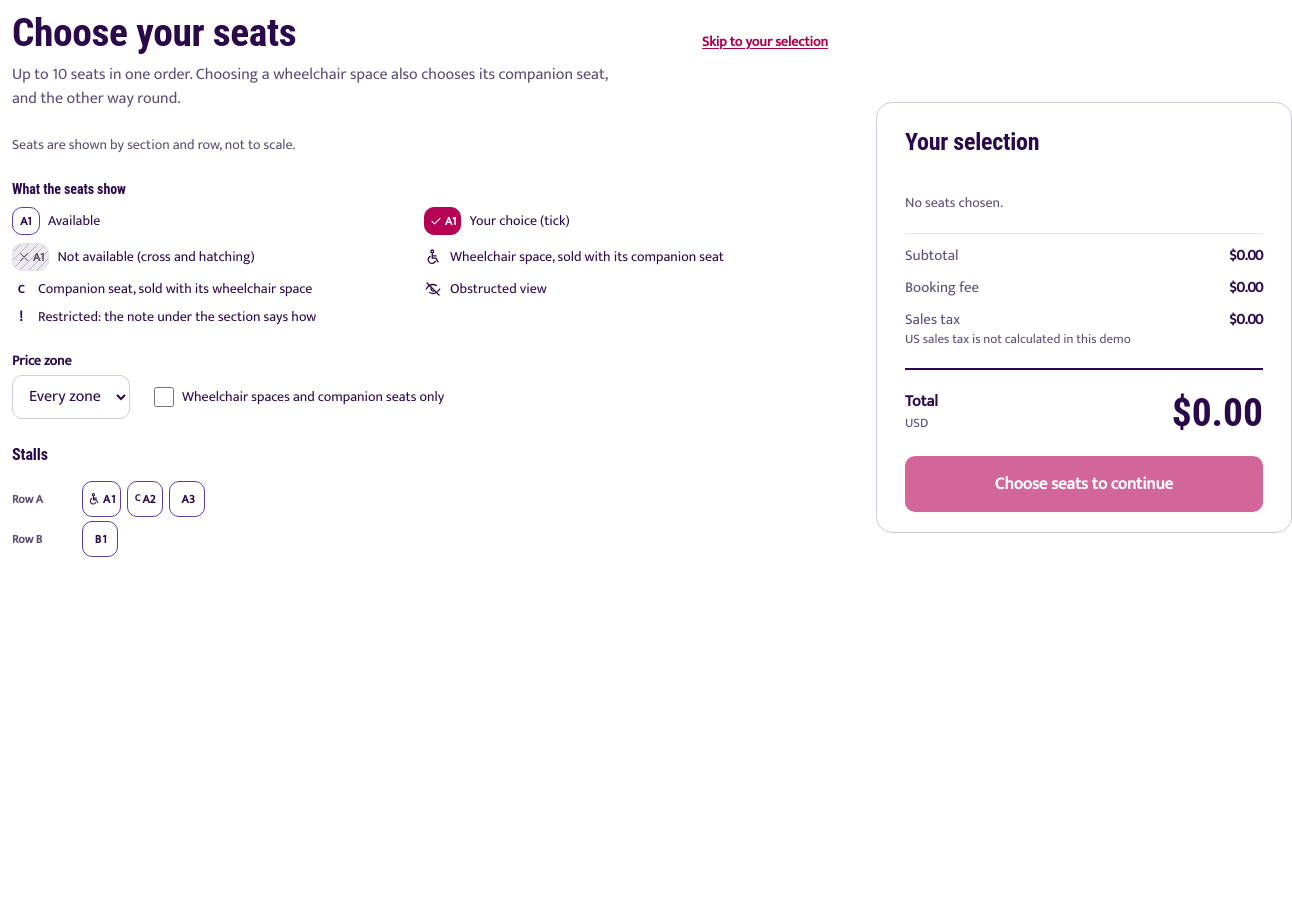
reserving, naming and paying › gives the hold back when the selection changes after reserving
This screenshot has width=1292, height=902.
Click the button "A3" at (187, 499), box left=169, top=481, right=205, bottom=517
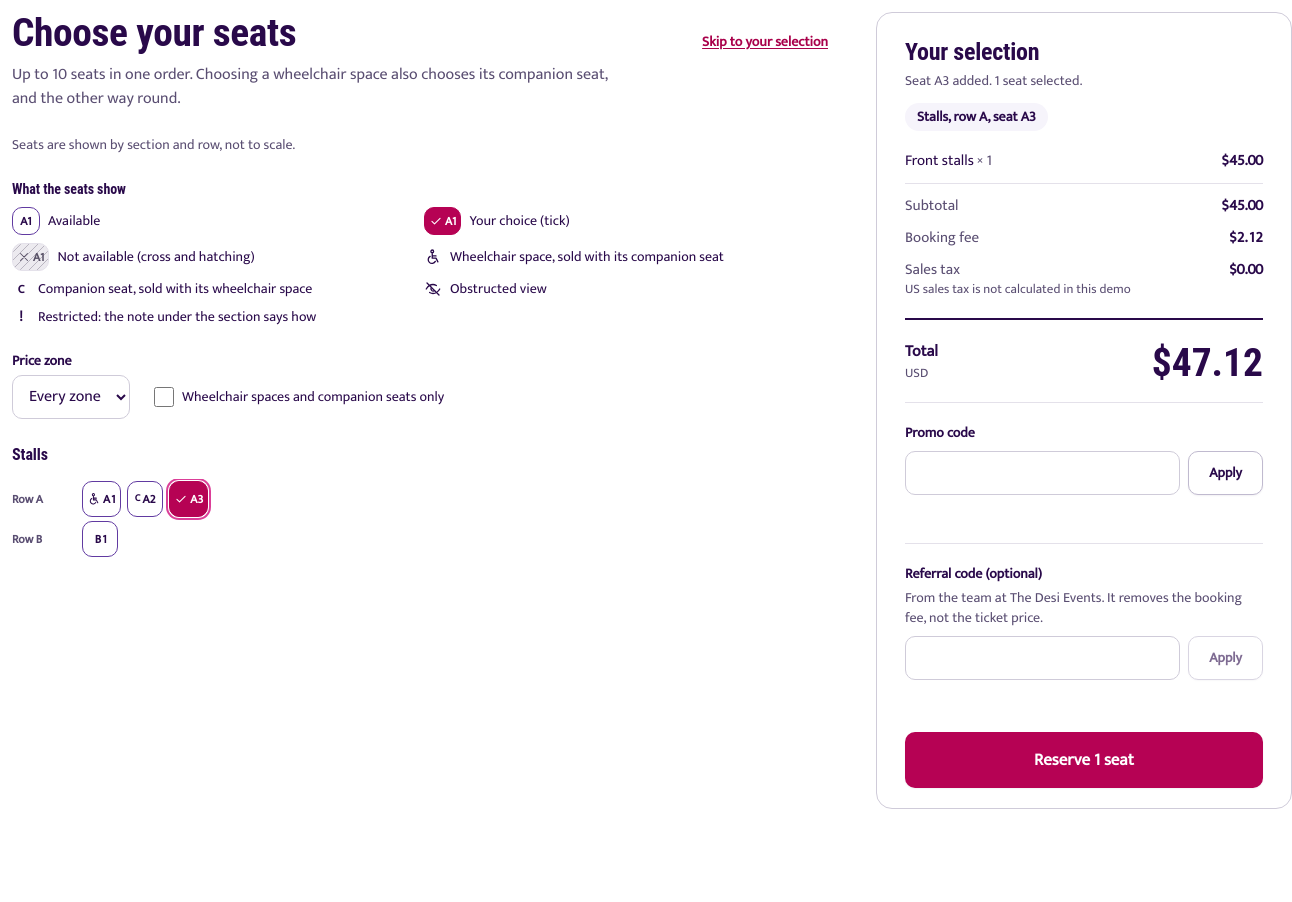
Click the button "Reserve 1 seat" at (1084, 760), box left=905, top=732, right=1263, bottom=788
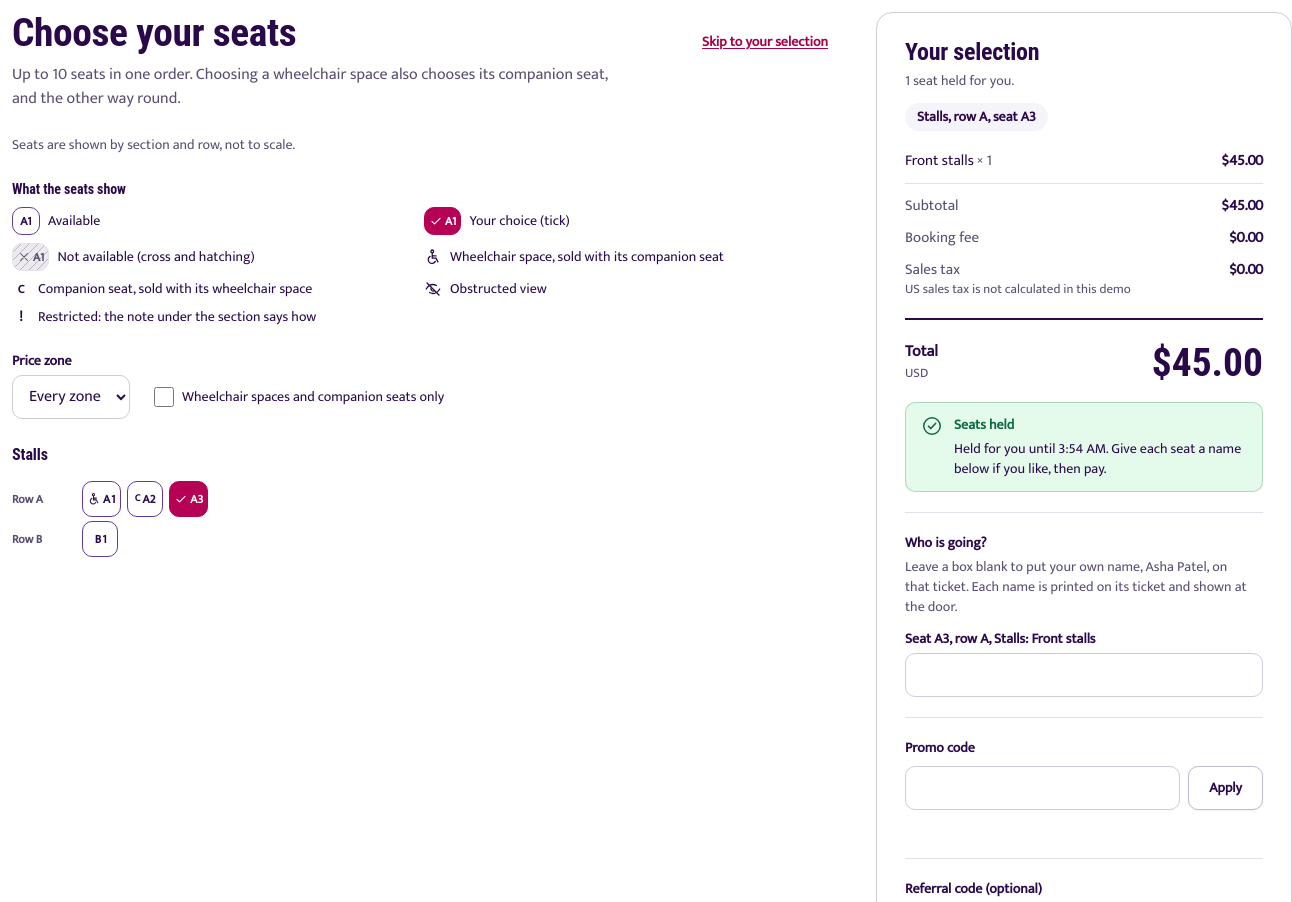
Click the button "B1" at (100, 539), box left=82, top=521, right=118, bottom=557
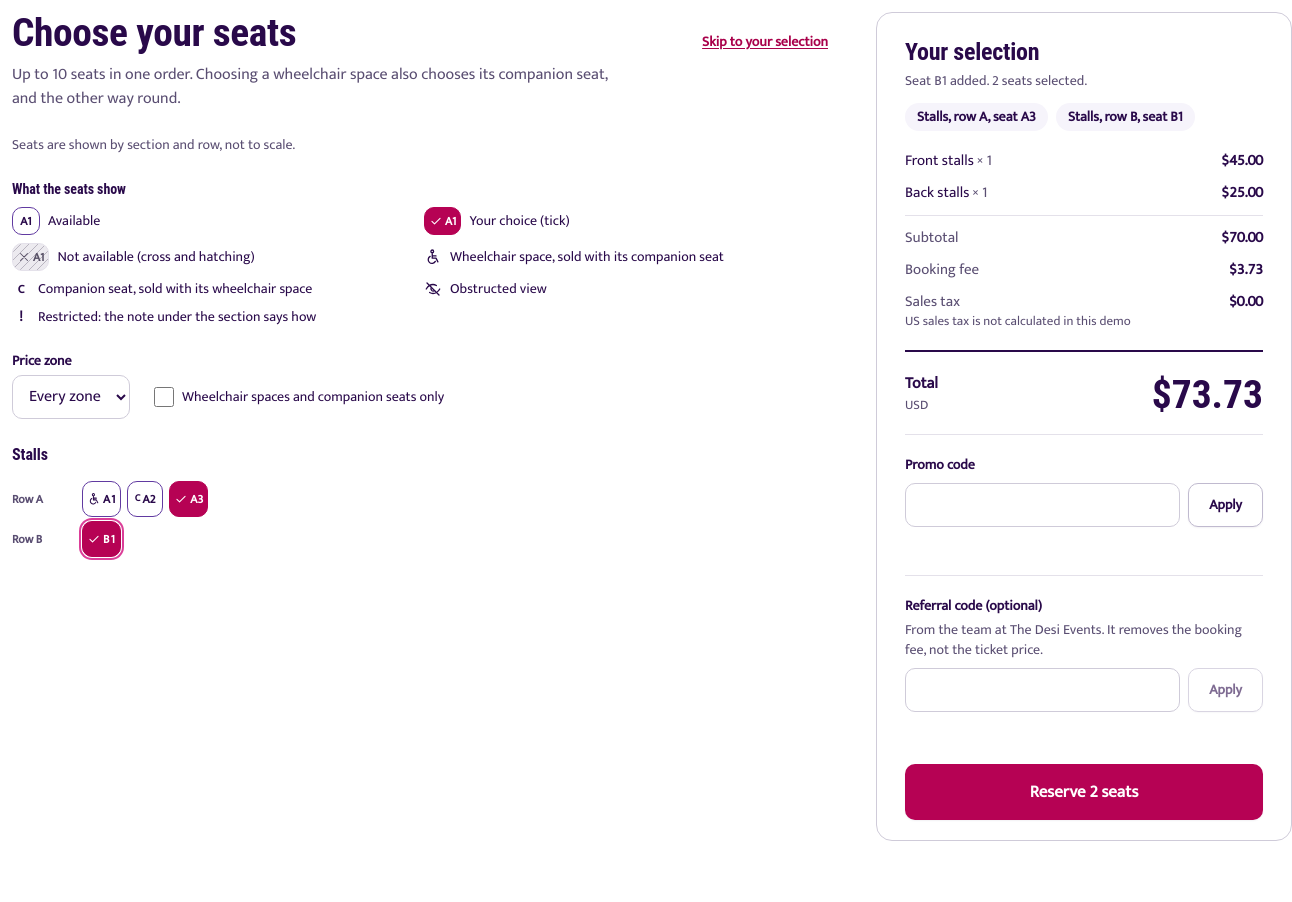
expect the button "Reserve 2 seats" is shown: met, box left=905, top=764, right=1263, bottom=820
